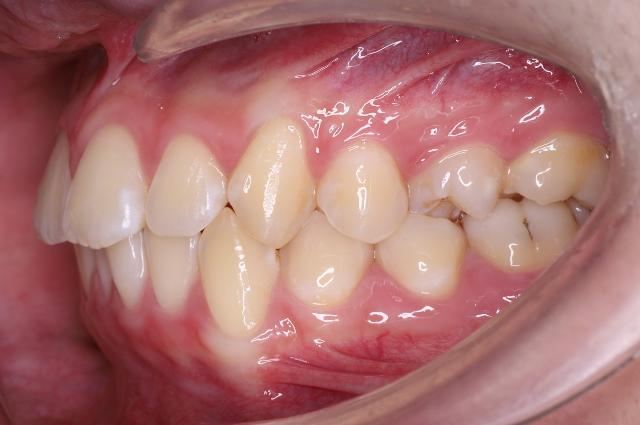canine class II 1/4: (195, 111, 372, 347)
molar class III 1/4: (462, 128, 612, 280)
